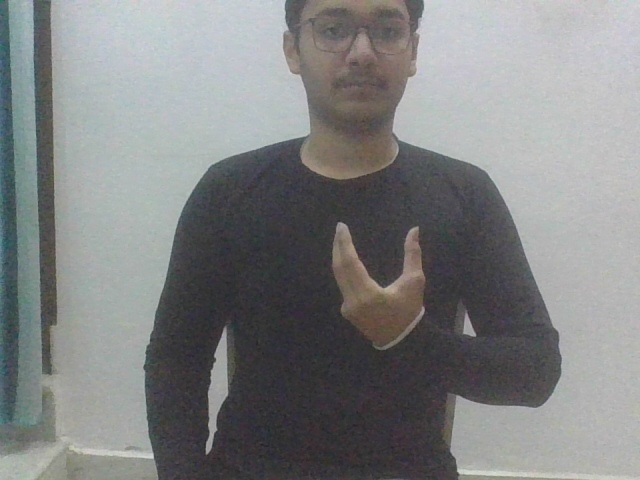U: (327, 213, 429, 355)
